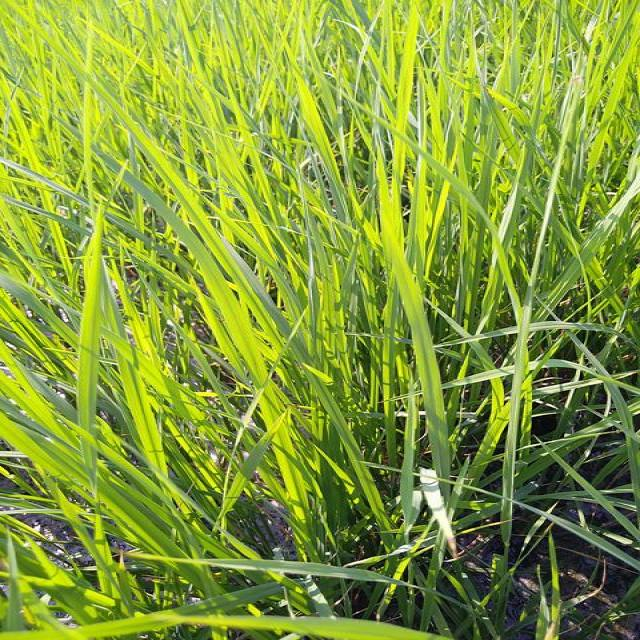Rice: (187, 217, 321, 555), (380, 217, 453, 476), (534, 180, 640, 322), (100, 84, 210, 216), (375, 5, 426, 216), (318, 384, 392, 528), (539, 438, 640, 540), (80, 216, 110, 497), (117, 347, 174, 473), (502, 308, 532, 544), (578, 346, 640, 436), (298, 74, 346, 182), (456, 345, 500, 429), (530, 323, 640, 348), (455, 324, 501, 345)
